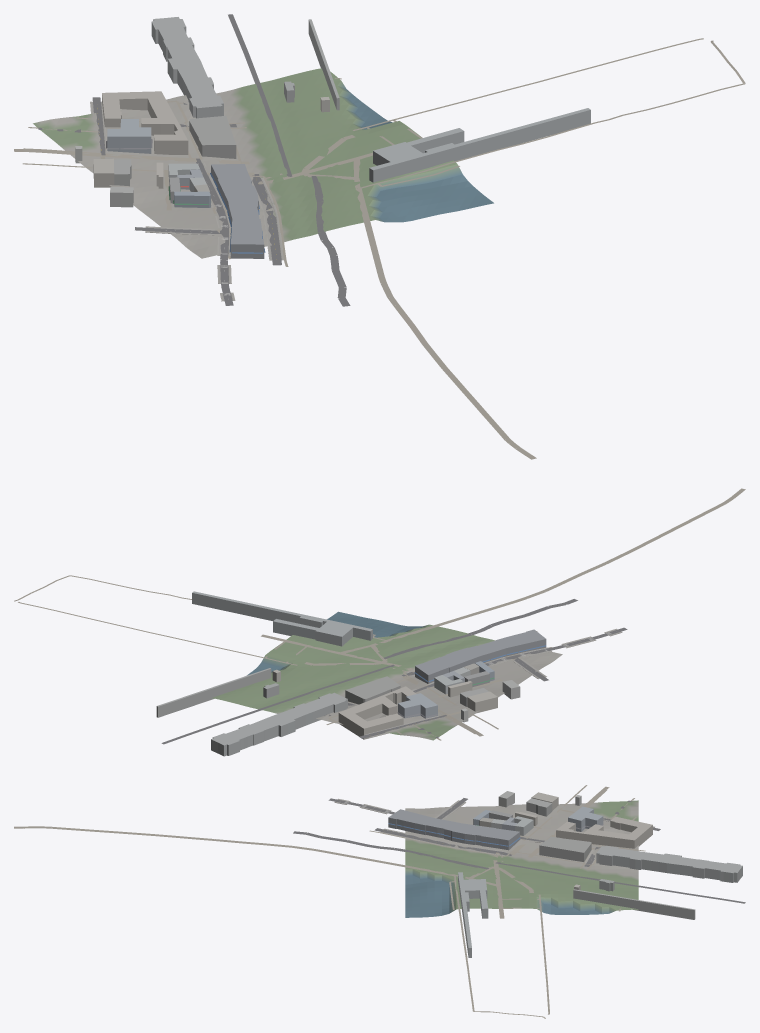
Rendered from tile_0_-2.glb.
3 renders of one model, top to bottom at view 1: azimuth 30°, elevation 25°; view 2: azimuth 150°, elevation 25°; view 3: azimuth 270°, elevation 25°, orthographic. The views are drawn at different scales.
Visible parts, largest first — view 1: terrain, buildings, paths, roads, sidewalks; view 2: buildings, terrain, paths, roads, sidewalks; view 3: terrain, buildings, paths, roads, sidewalks.
Part boxes in pixels (<box>): terrain: <box>33,68,493,258</box>; buildings: <box>75,17,590,258</box>; paths: <box>14,38,745,459</box>; roads: <box>38,14,350,306</box>; sidewalks: <box>90,101,283,301</box>; buildings: <box>156,591,546,756</box>; terrain: <box>212,611,562,740</box>; paths: <box>14,488,745,740</box>; roads: <box>161,599,627,744</box>; sidewalks: <box>348,628,622,737</box>; terrain: <box>405,800,638,917</box>; buildings: <box>388,791,742,957</box>; paths: <box>14,785,645,1018</box>; roads: <box>293,798,745,903</box>; sidewalks: <box>334,798,654,863</box>.
Size of the model in its own units: 579 by 29.64 by 804.
